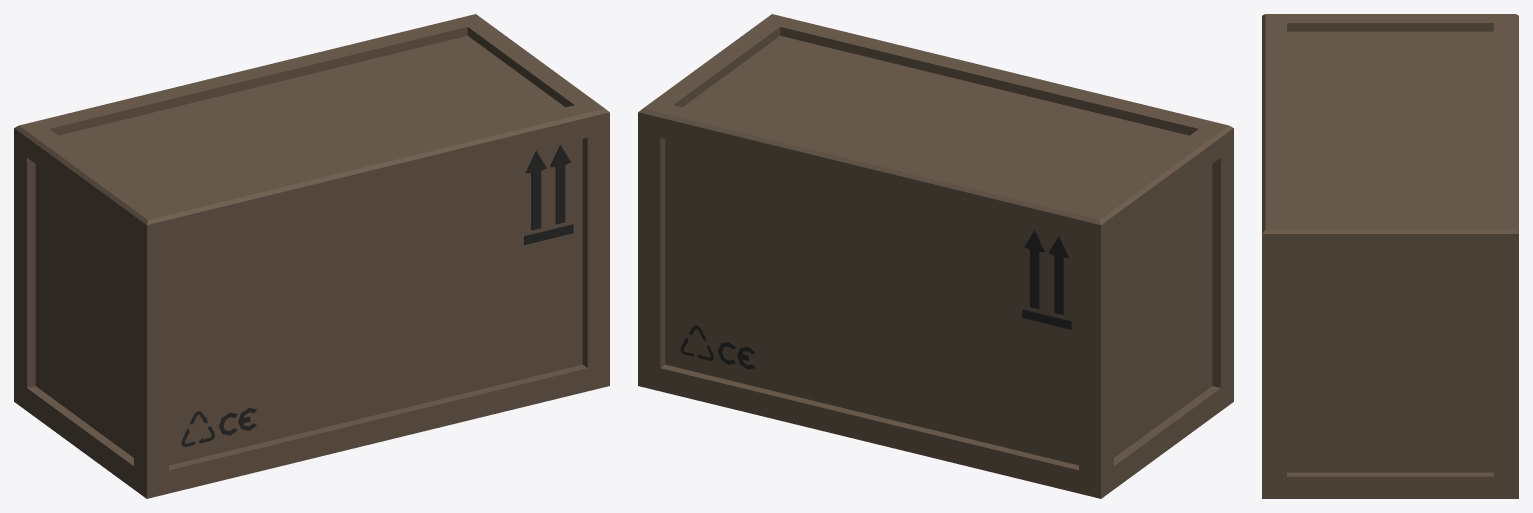
File: props_14.glb
The picture shows the model from 3 angles, left to right: view 1: azimuth 30°, elevation 25°; view 2: azimuth 150°, elevation 25°; view 3: azimuth 270°, elevation 25°; orthographic projection. The views are drawn at different scales.
Visible parts, largest first — view 1: props_14; view 2: props_14; view 3: props_14.
Part boxes in pixels (x1,y1,x2,y2): props_14: [14, 14, 609, 498]; props_14: [638, 14, 1233, 498]; props_14: [1262, 14, 1518, 498].
Bounding box in the file's own units: 3.5 × 2 × 1.74.
Materials: 1 (1 with a texture image).
